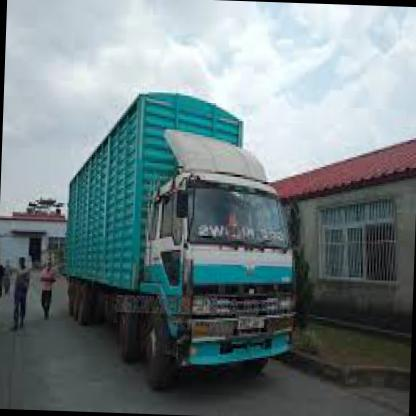truck: (136, 174, 302, 395)
